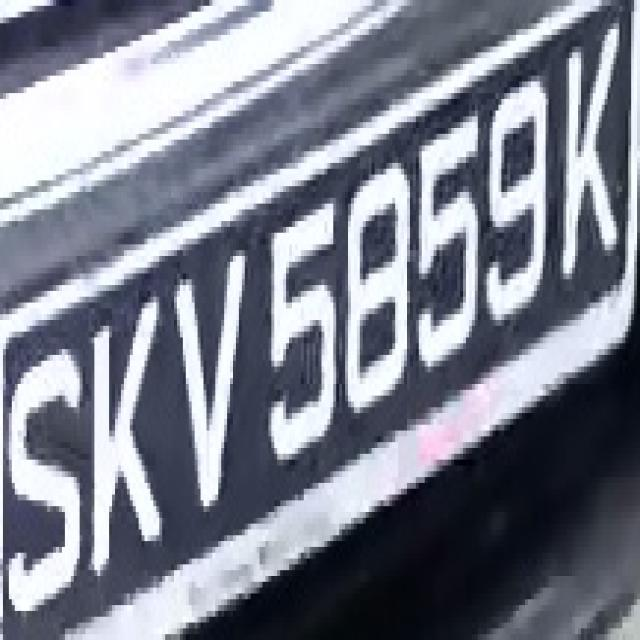5: (404, 105, 493, 390), (260, 186, 342, 477)
8: (339, 128, 419, 425)
9: (484, 70, 557, 314)
K: (80, 285, 159, 570), (555, 23, 628, 297)
S: (0, 325, 88, 628)
V: (162, 232, 248, 524)
